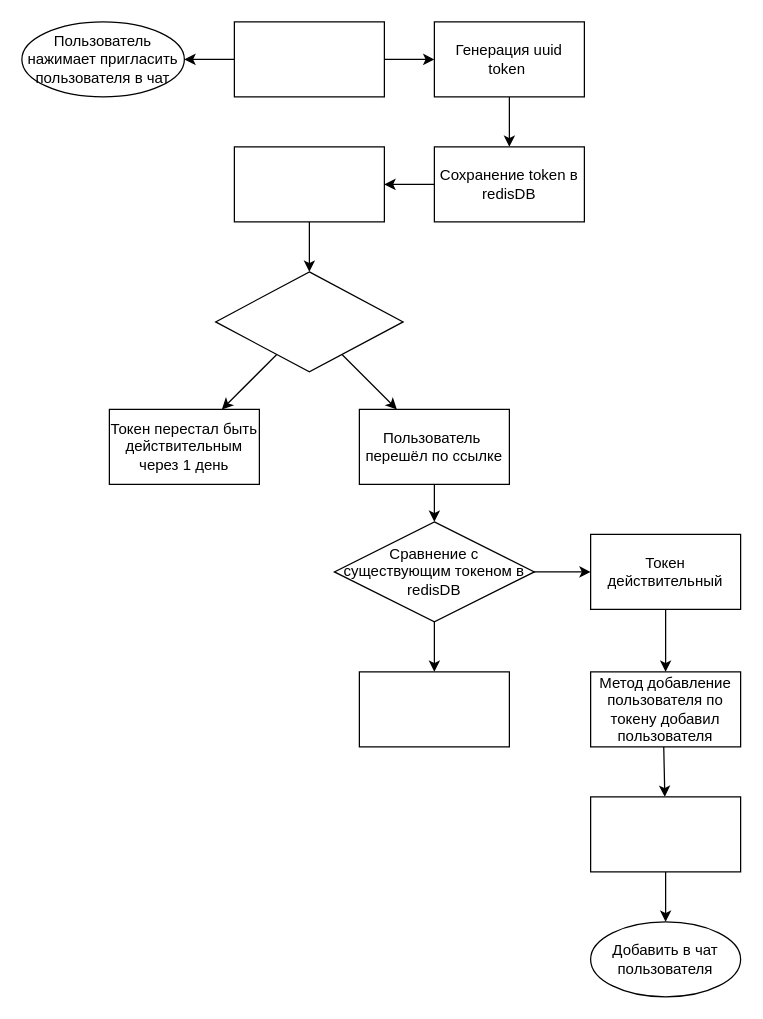
Some shapes in this 763 by 1019 pixel diagram are drawn without their labels. Here are the shapes that lost their labels. From the top down, the centre of each, then its label:
(x=308, y=59): Валидация данных
(x=308, y=184): Отправка пользователю приглашения
(x=308, y=321): Принятие этого приглашения
(x=433, y=709): Токен не действительный
(x=665, y=834): Добавить чат пользователю на аккаунт
